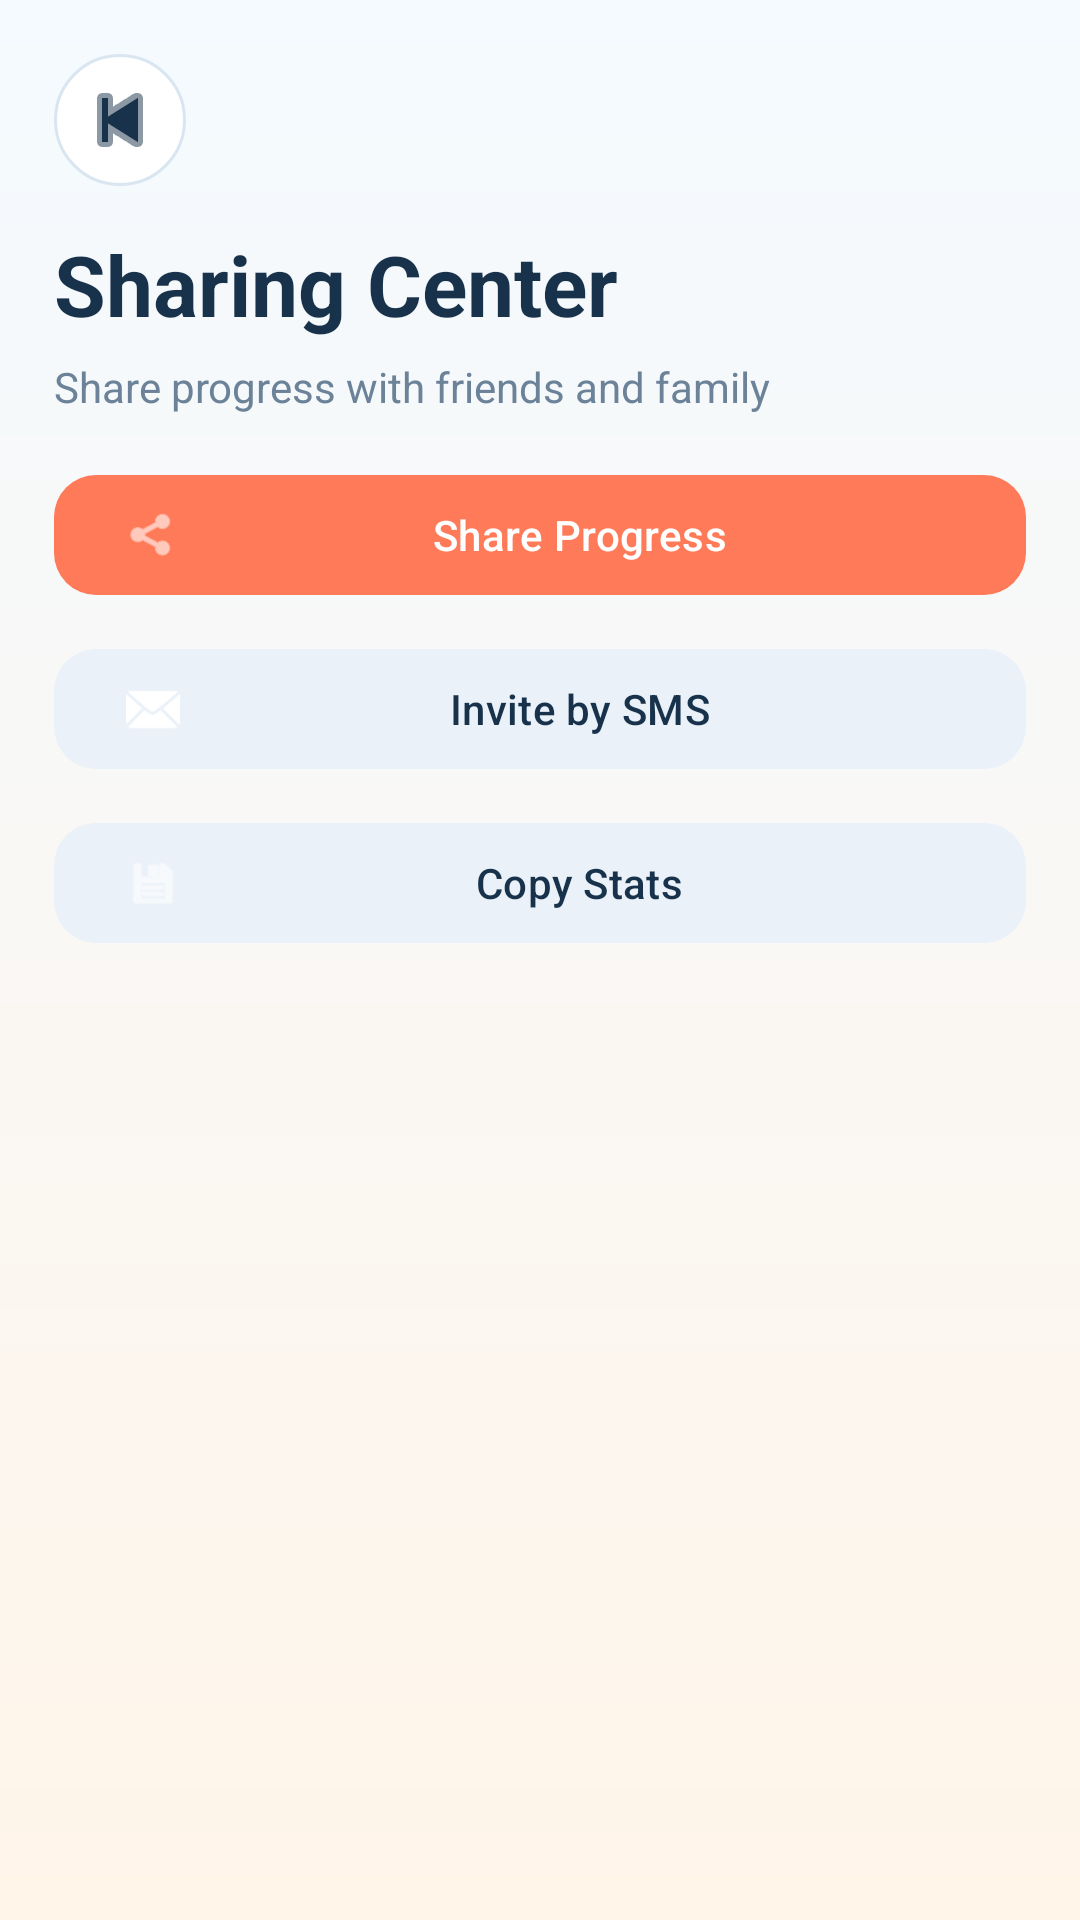

Icon bounding boxes for this 1080*1920 phone screenshot, format (x1=x1, y1=y1, x2=x2, y2=y2):
previous: (x1=54, y1=54, x2=186, y2=186)
